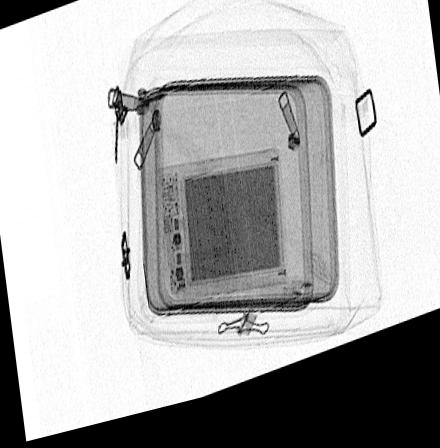Powerbank: (155, 163, 287, 307)
